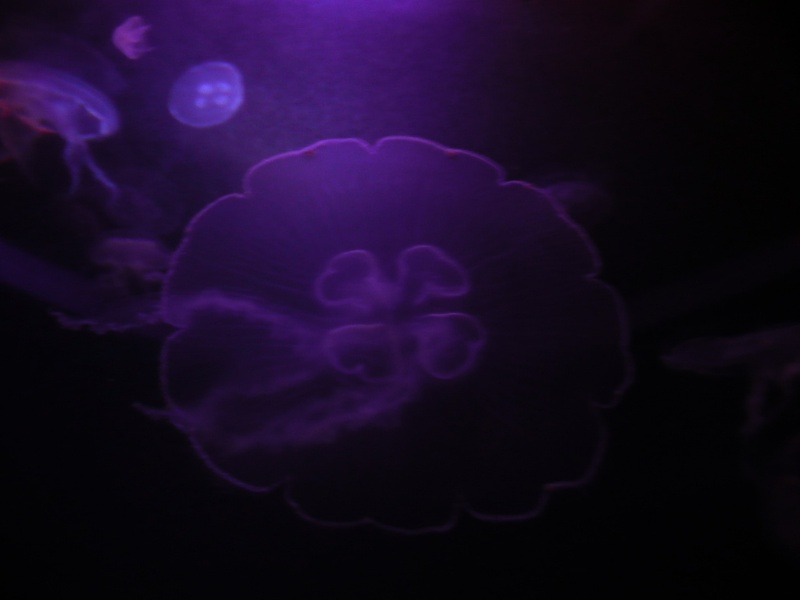Jellyfish: (127, 136, 638, 494), (0, 68, 122, 193), (170, 59, 244, 126)
